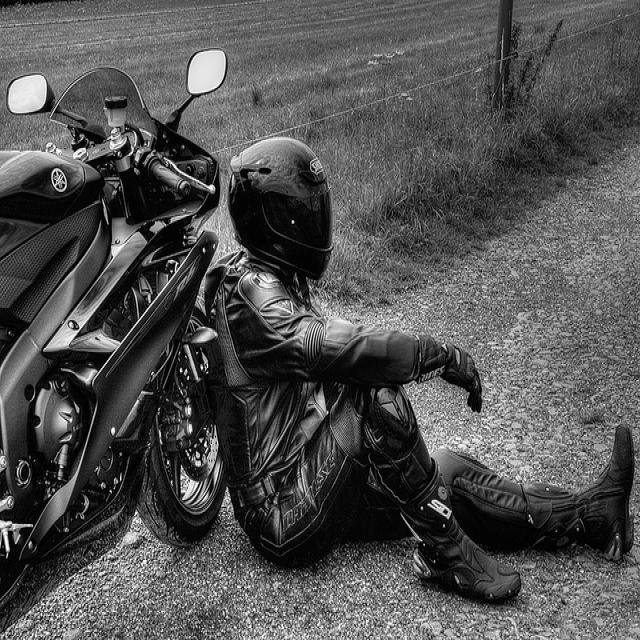motor: (2, 48, 228, 609)
